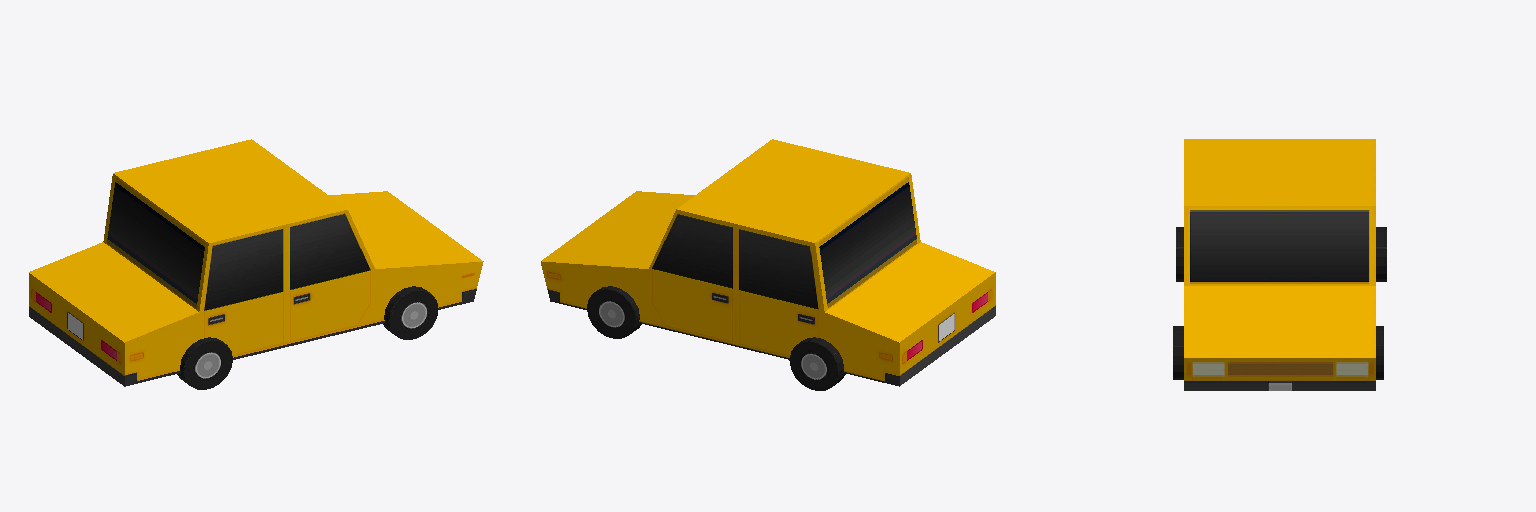
3 renders of one model, left to right at view 1: azimuth 30°, elevation 25°; view 2: azimuth 150°, elevation 25°; view 3: azimuth 270°, elevation 25°, orthographic.
Visible parts, largest first — view 1: Car_04; view 2: Car_04; view 3: Car_04.
Boxes of the visible parts, x1=… form: Car_04: x1=29, y1=139, x2=483, y2=389; Car_04: x1=541, y1=139, x2=995, y2=390; Car_04: x1=1173, y1=139, x2=1386, y2=390.
Size of the model in its own units: 76.54 by 28.93 by 39.39.
1 materials, 1 textured.